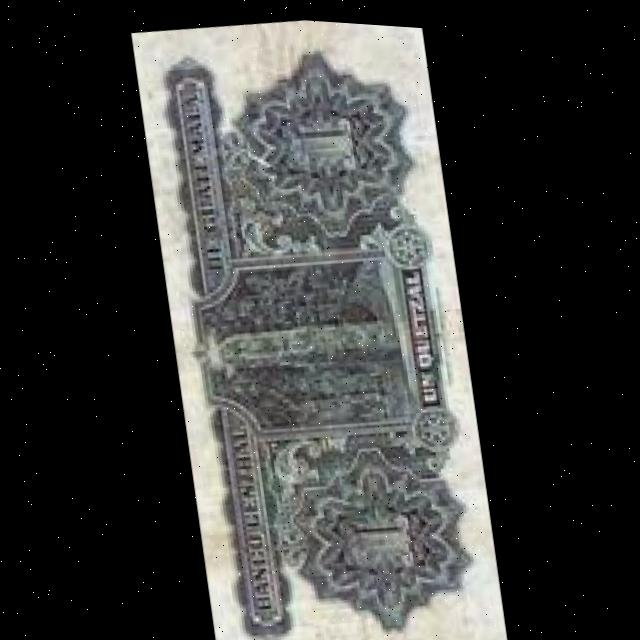banknote: (128, 7, 508, 640)
